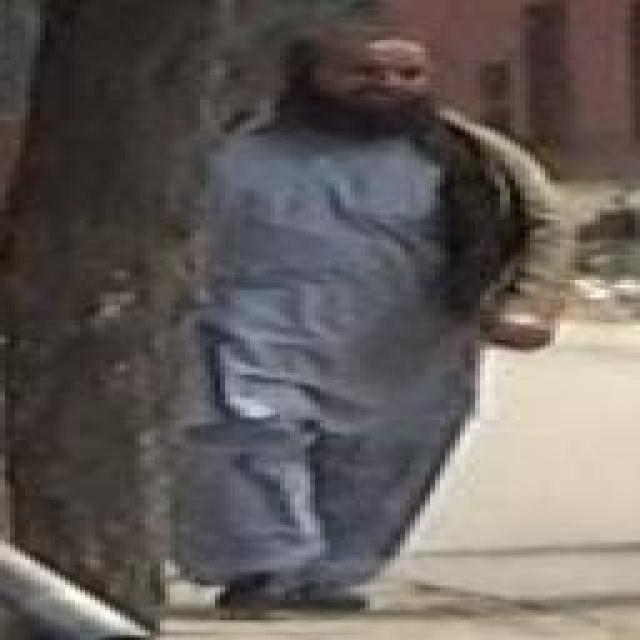adult: (180, 20, 574, 616)
